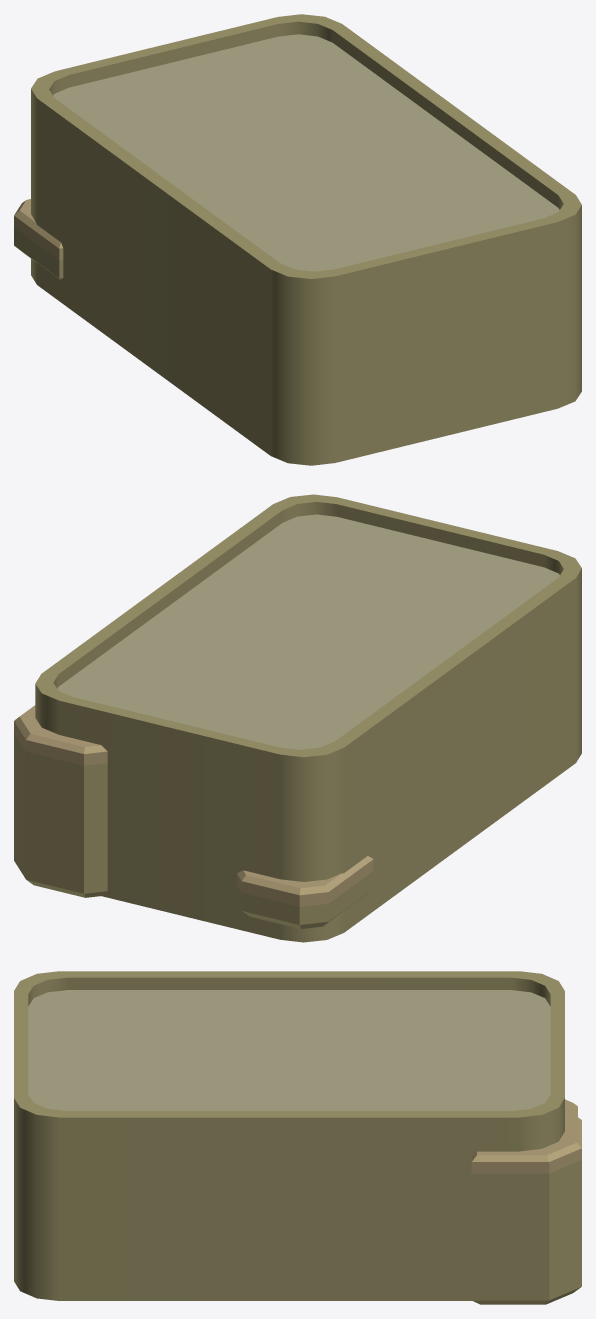
The model's file is platform_02.fbx.
3 views of the same model, one above another, from view 1: azimuth 30°, elevation 25°; view 2: azimuth 150°, elevation 25°; view 3: azimuth 270°, elevation 25° (orthographic).
Parts seen in each view (by area): view 1: platform02, da_04_platform02; view 2: platform02, da_03_platform02, da_04_platform02; view 3: platform02, da_03_platform02.
Part boxes in pixels (left/top/right/bottom): platform02: left=31, top=14, right=581, bottom=465; da_04_platform02: left=14, top=199, right=63, bottom=279; platform02: left=35, top=494, right=581, bottom=942; da_03_platform02: left=14, top=705, right=107, bottom=897; da_04_platform02: left=236, top=856, right=373, bottom=928; platform02: left=14, top=971, right=564, bottom=1300; da_03_platform02: left=471, top=1111, right=581, bottom=1304.
Size of the model in its own units: 6.42 by 3.6 by 10.
